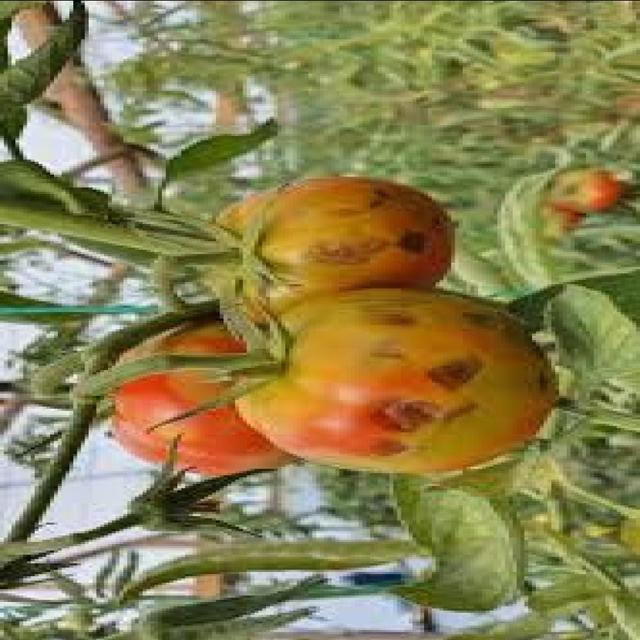Spotted wilt Virus Fruit: (134, 95, 262, 266)
